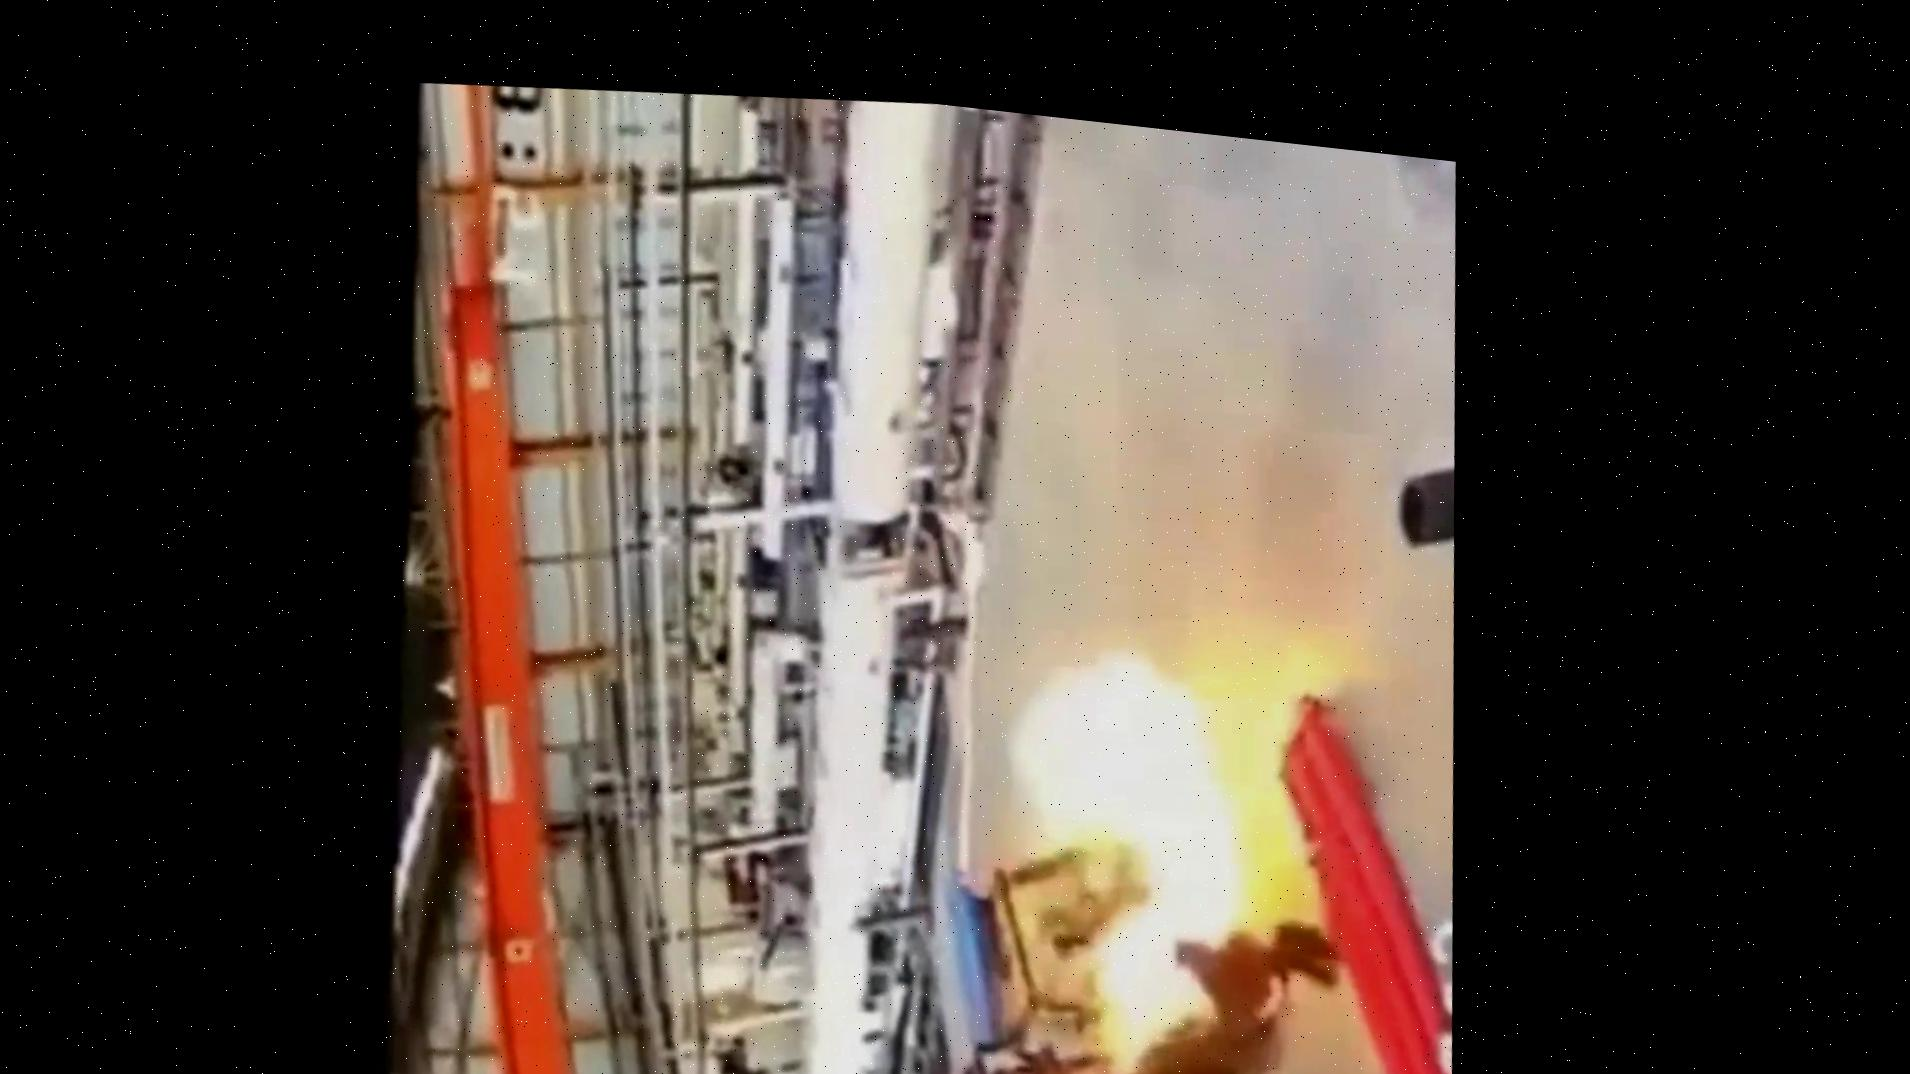fire: (897, 573, 1328, 1065)
